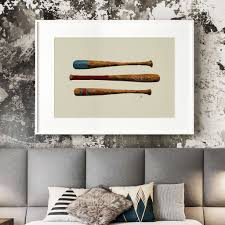baseball bat: (66, 72, 162, 84), (71, 56, 154, 69), (74, 86, 151, 98)
